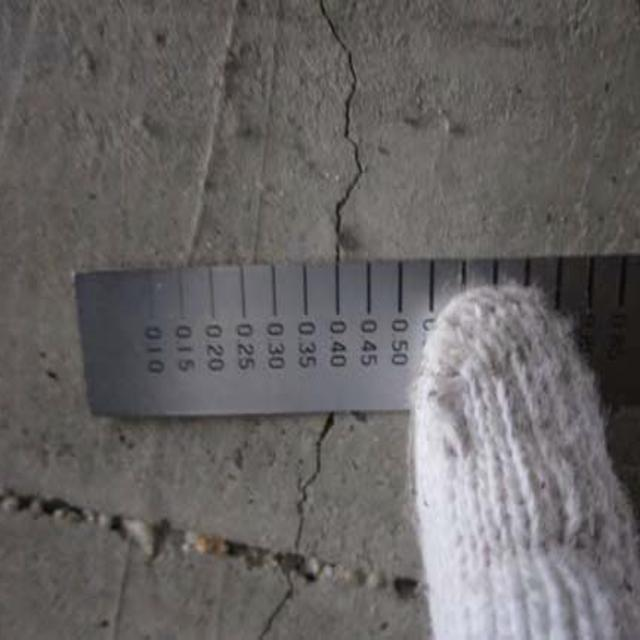crack: (252, 418, 351, 640), (303, 12, 380, 267)
